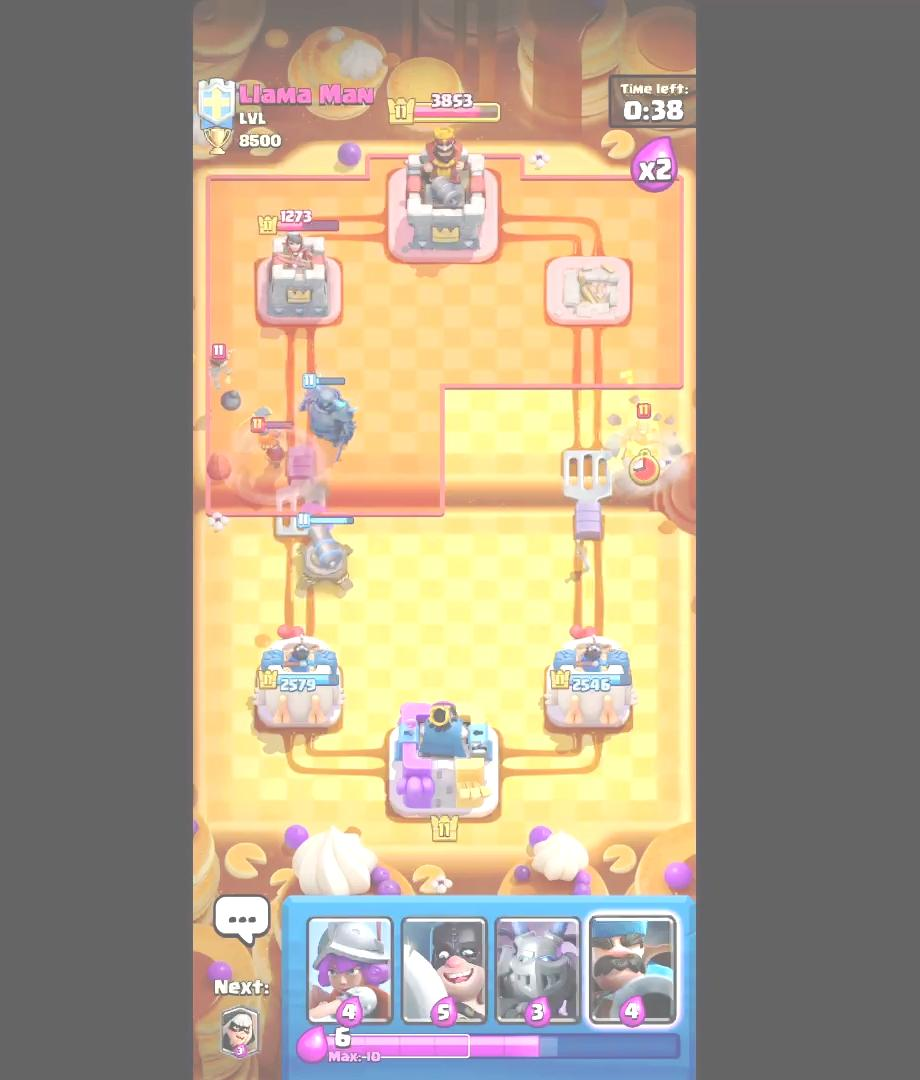Bomber: (202, 334, 253, 419)
Hog Rider: (609, 402, 673, 488)
Valkyrie: (247, 413, 296, 472)
